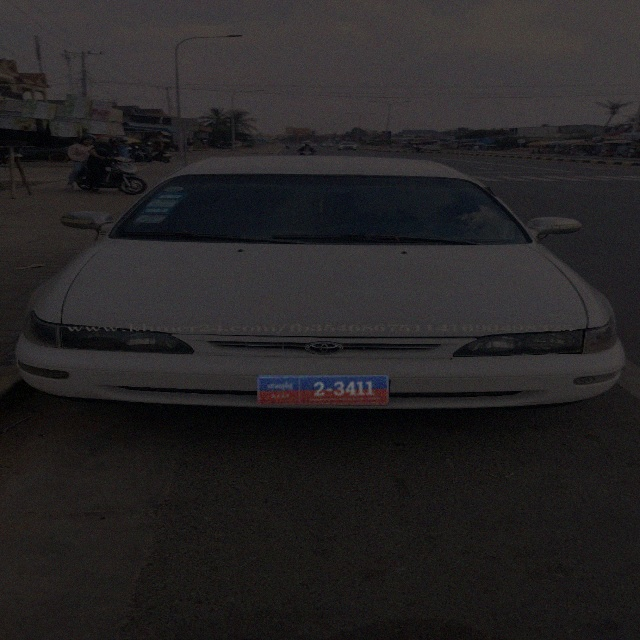Plate Number: (257, 376, 390, 405)
